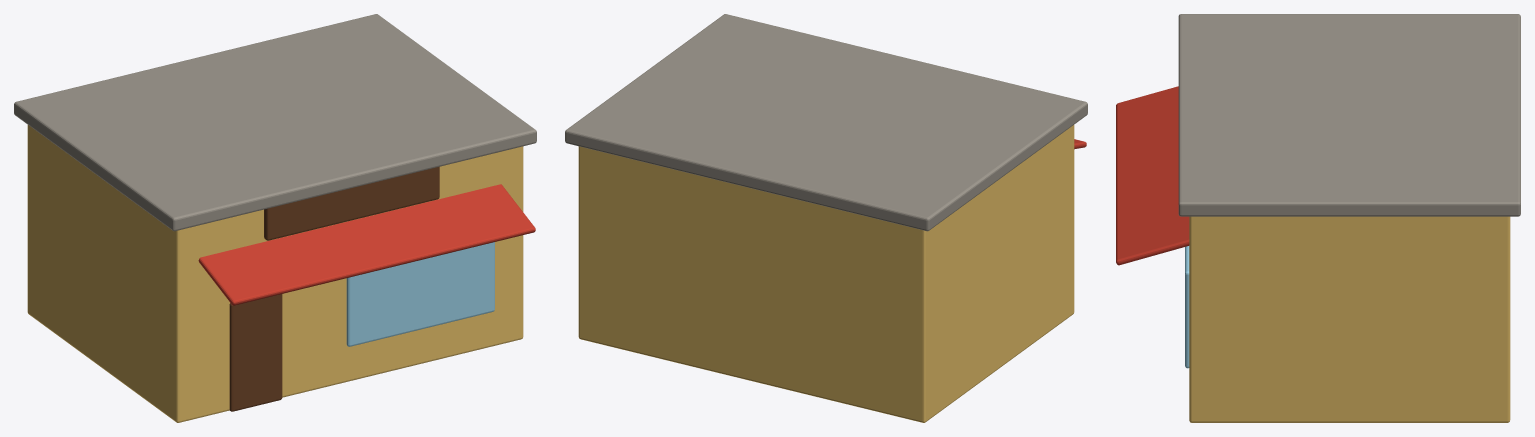
The model's file is shop.glb.
The picture shows the model from 3 angles, left to right: view 1: azimuth 30°, elevation 25°; view 2: azimuth 150°, elevation 25°; view 3: azimuth 270°, elevation 25°; orthographic projection. The views are drawn at different scales.
Parts seen in each view (by area): view 1: shop; view 2: shop; view 3: shop.
Boxes of the visible parts, x1=… form: shop: x1=14, y1=14, x2=536, y2=422; shop: x1=565, y1=14, x2=1087, y2=422; shop: x1=1116, y1=14, x2=1520, y2=422.
Size of the model in its own units: 8.4 by 4.65 by 7.57.
